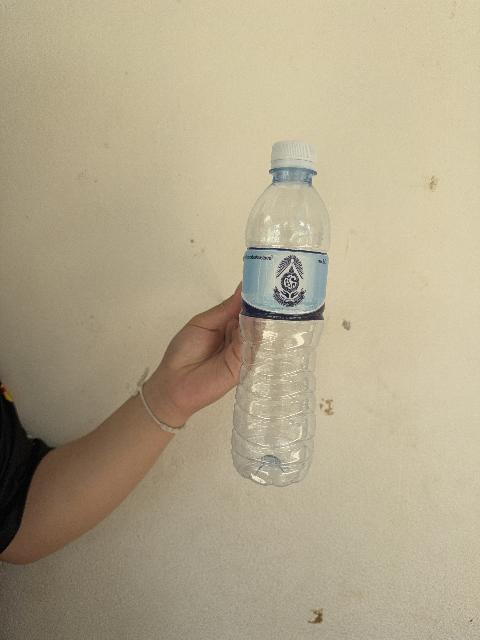bottle: (231, 141, 329, 486)
